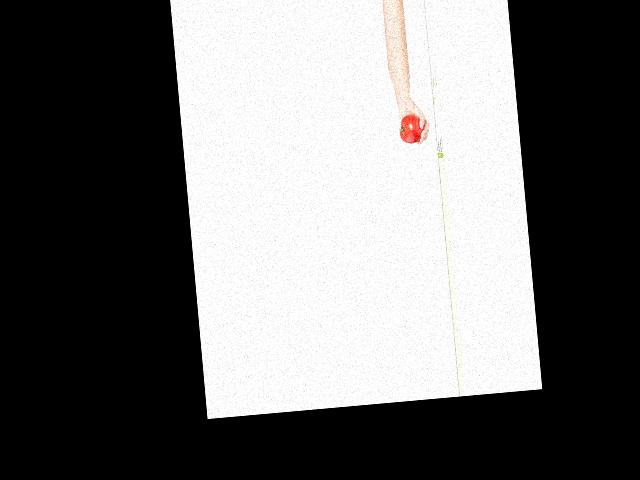tomato: (398, 112, 424, 144)
